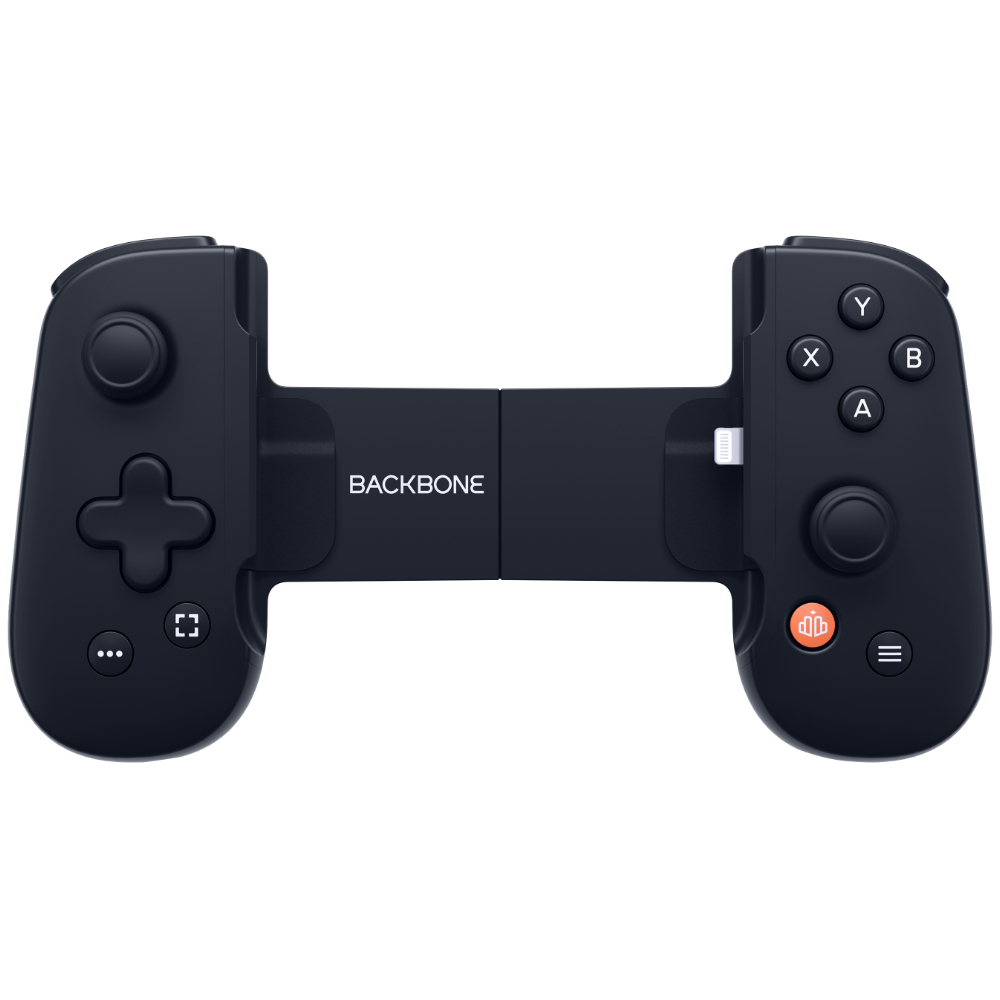controller: (7, 234, 992, 760)
